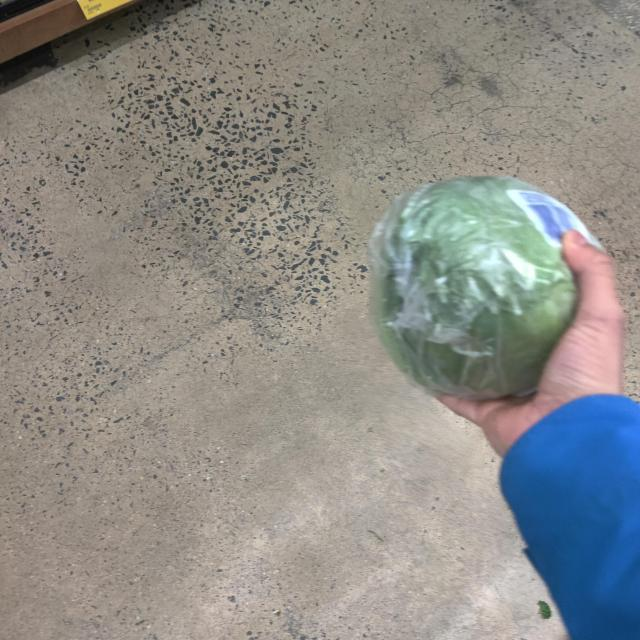Cabbage: (363, 164, 612, 410)
